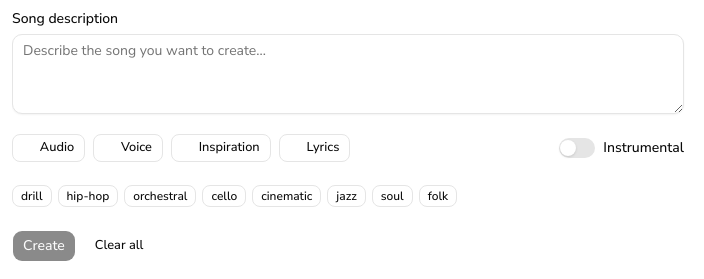
it: SimpleCreationForm › enables Create once the description has content
The width and height of the screenshot is (704, 279).
Type "a calm piano piece" into the text box labelled "Song description" at [348, 74], box [12, 34, 684, 114]
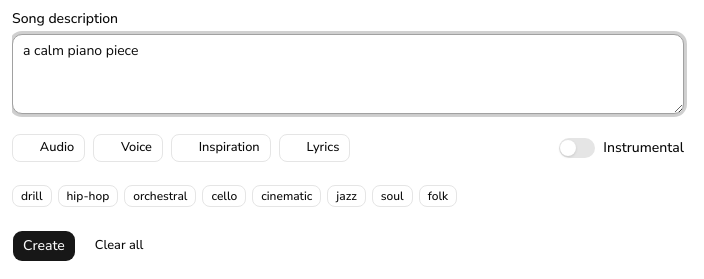
Expected: the button "Create" is enabled, [12, 230, 76, 262]
